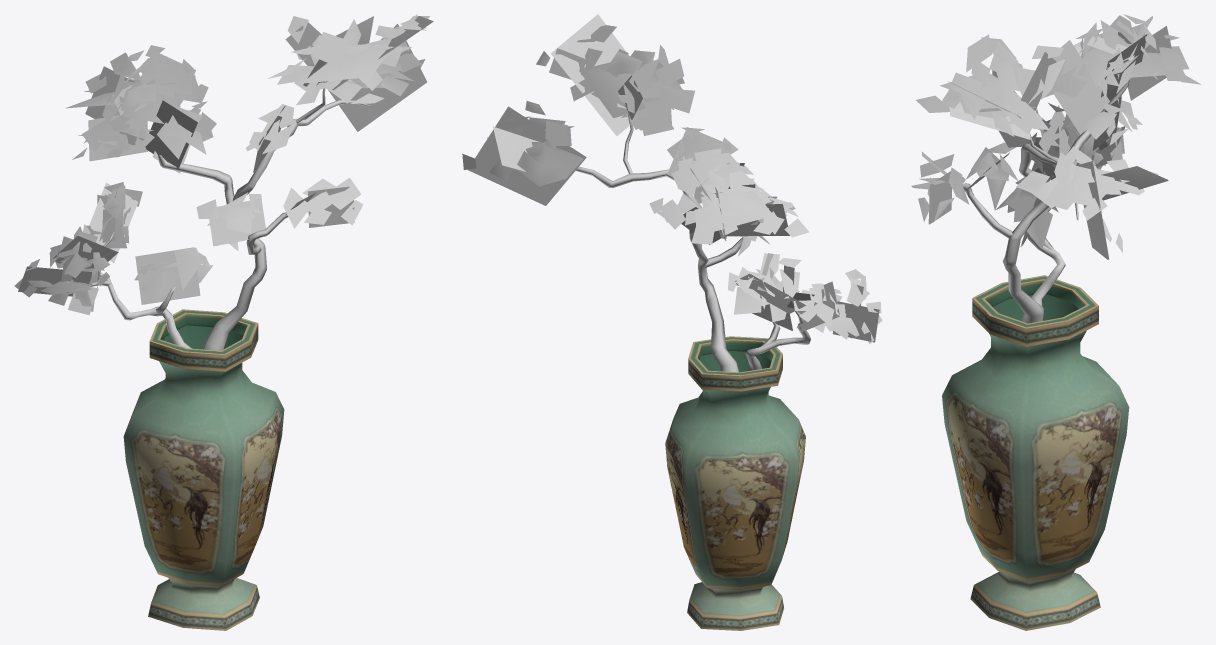
File: Homeworld_Interior_Ly_Decoration_Prop_Vase_01_Vo.fbx
The picture shows the model from 3 angles, left to right: view 1: azimuth 30°, elevation 25°; view 2: azimuth 150°, elevation 25°; view 3: azimuth 270°, elevation 25°; orthographic projection. The views are drawn at different scales.
Parts seen in each view (by area): view 1: Indoor_Ly_Prop_Vase_04_Vo, Indoor_Ly_Prop_Apricot_01_Flower_Vo, Indoor_Ly_Prop_Apricot_01_Bark_Vo; view 2: Indoor_Ly_Prop_Vase_04_Vo, Indoor_Ly_Prop_Apricot_01_Flower_Vo, Indoor_Ly_Prop_Apricot_01_Bark_Vo; view 3: Indoor_Ly_Prop_Vase_04_Vo, Indoor_Ly_Prop_Apricot_01_Flower_Vo, Indoor_Ly_Prop_Apricot_01_Bark_Vo.
Boxes of the visible parts, left/top/right/bottom form: Indoor_Ly_Prop_Vase_04_Vo: left=123, top=309, right=284, bottom=630; Indoor_Ly_Prop_Apricot_01_Flower_Vo: left=14, top=14, right=429, bottom=311; Indoor_Ly_Prop_Apricot_01_Bark_Vo: left=18, top=16, right=433, bottom=350; Indoor_Ly_Prop_Vase_04_Vo: left=665, top=336, right=805, bottom=630; Indoor_Ly_Prop_Apricot_01_Flower_Vo: left=462, top=25, right=882, bottom=344; Indoor_Ly_Prop_Apricot_01_Bark_Vo: left=468, top=14, right=879, bottom=372; Indoor_Ly_Prop_Vase_04_Vo: left=942, top=275, right=1129, bottom=630; Indoor_Ly_Prop_Apricot_01_Flower_Vo: left=911, top=14, right=1200, bottom=252; Indoor_Ly_Prop_Apricot_01_Bark_Vo: left=922, top=26, right=1171, bottom=323.
Size of the model in its own units: 2.49 by 3.16 by 1.34.
